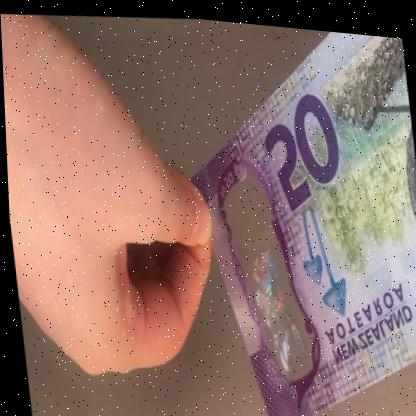50B: (226, 182, 306, 375)
